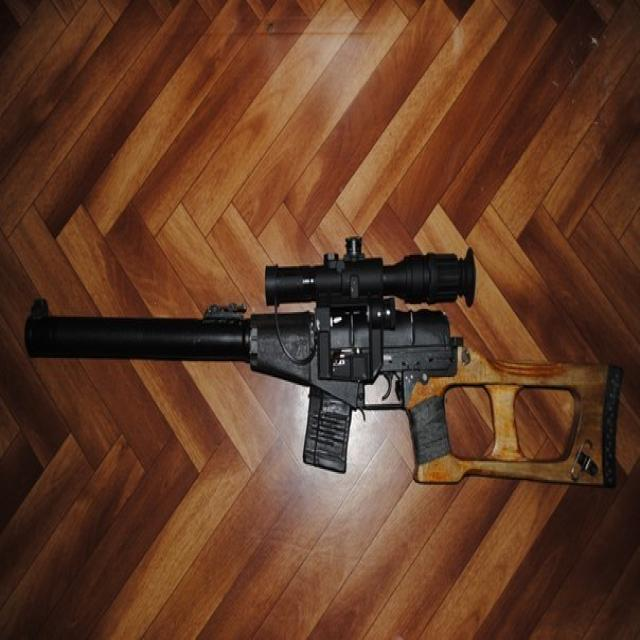firearm: (22, 235, 626, 493)
